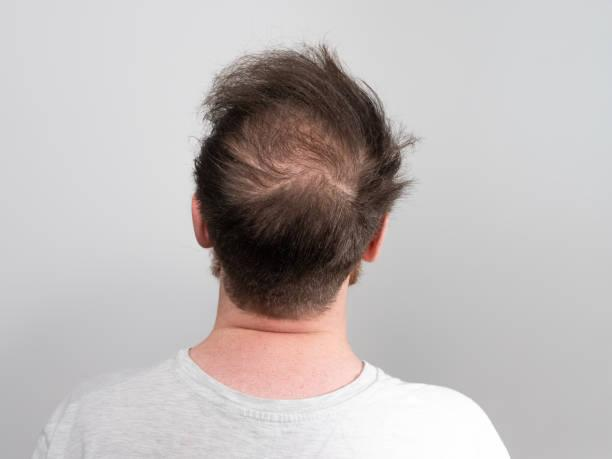low hair density: (244, 95, 355, 201)
